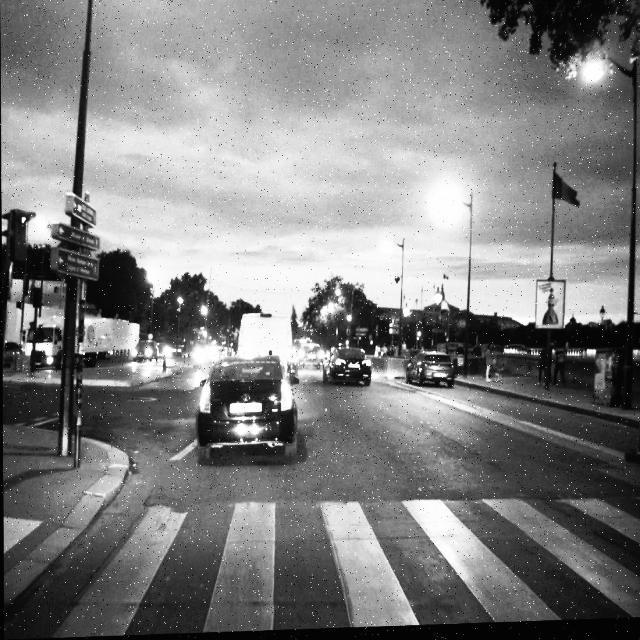Car: (192, 351, 296, 467)
Truck: (25, 314, 115, 370)
